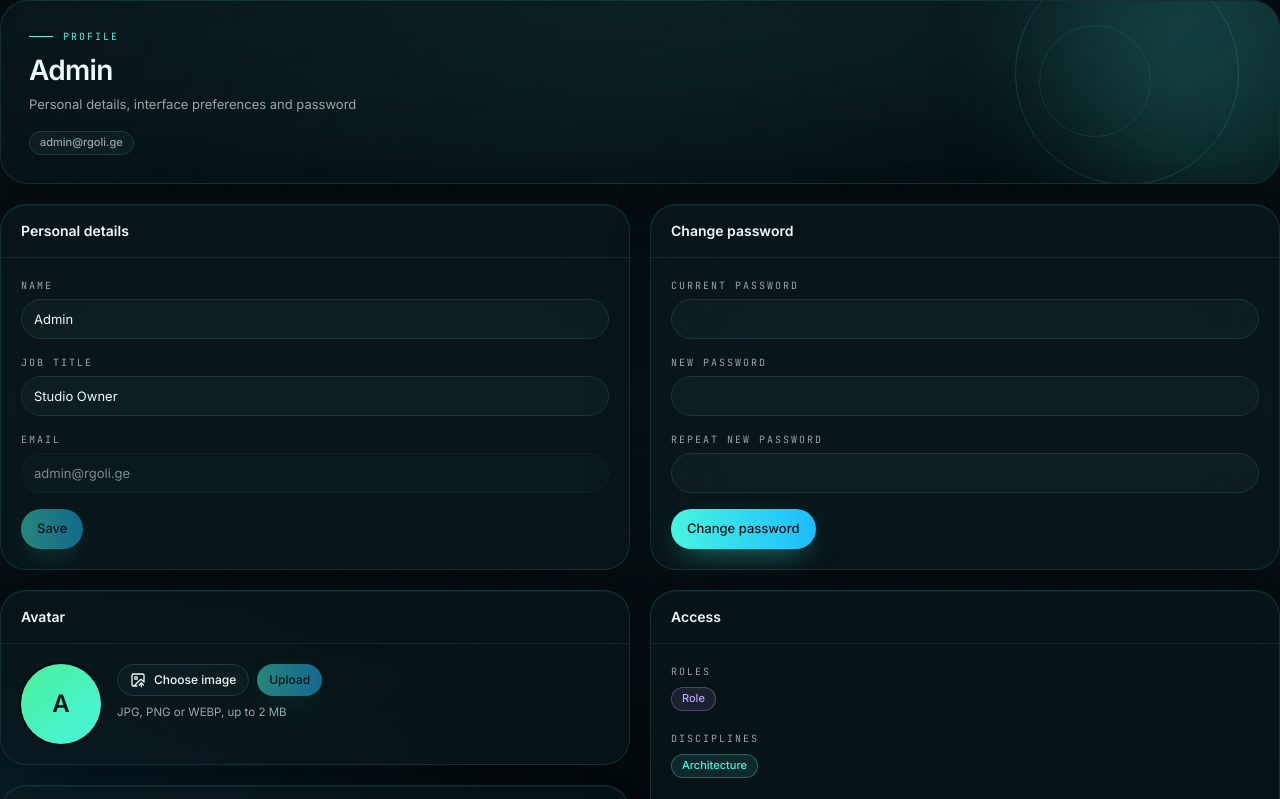
Scenario: ProfilePage › saves the name and pushes the new profile into the store
Replace the text in the field labelled "Name" with "Nino" at (315, 319), box top-left (21, 299), bottom-right (609, 339)
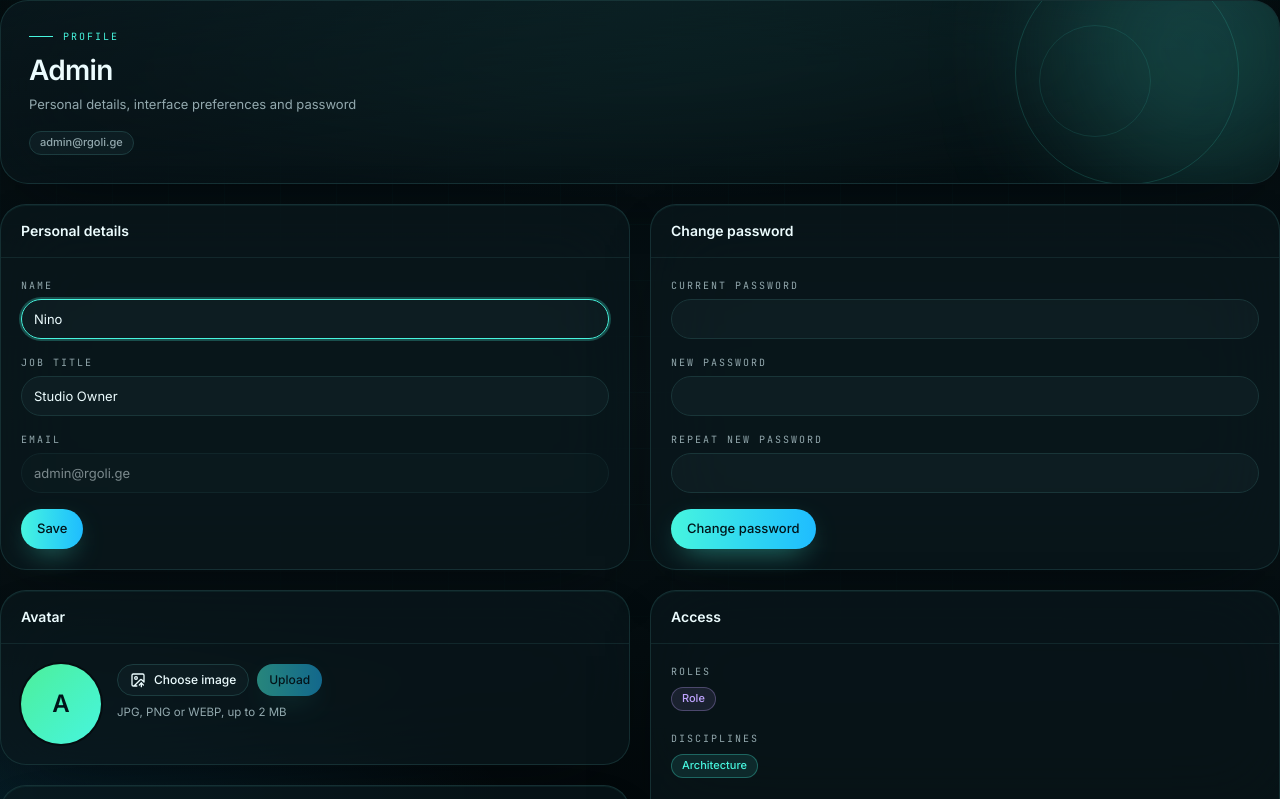
Click the button "Save".
click(52, 529)  # box top-left (21, 509), bottom-right (84, 549)
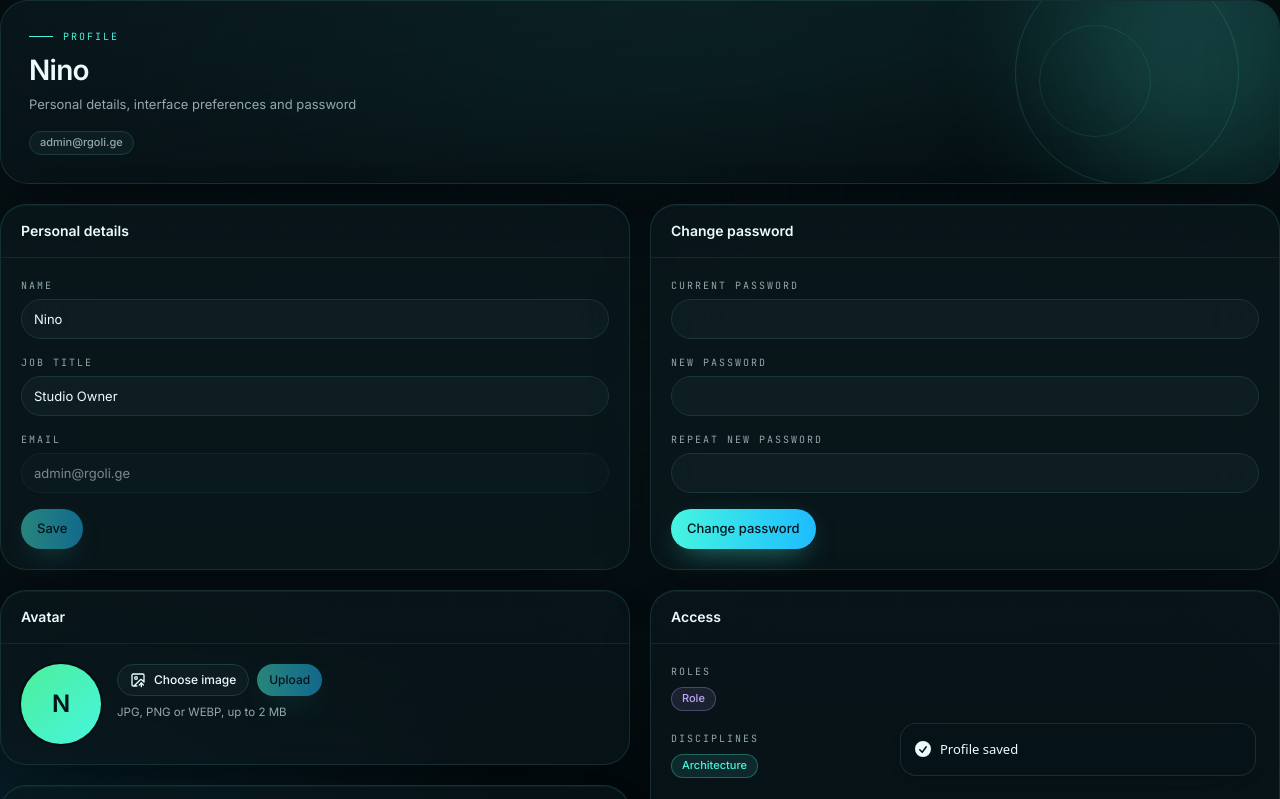
expect the heading "Nino" is shown: met, box top-left (29, 53), bottom-right (89, 87)
